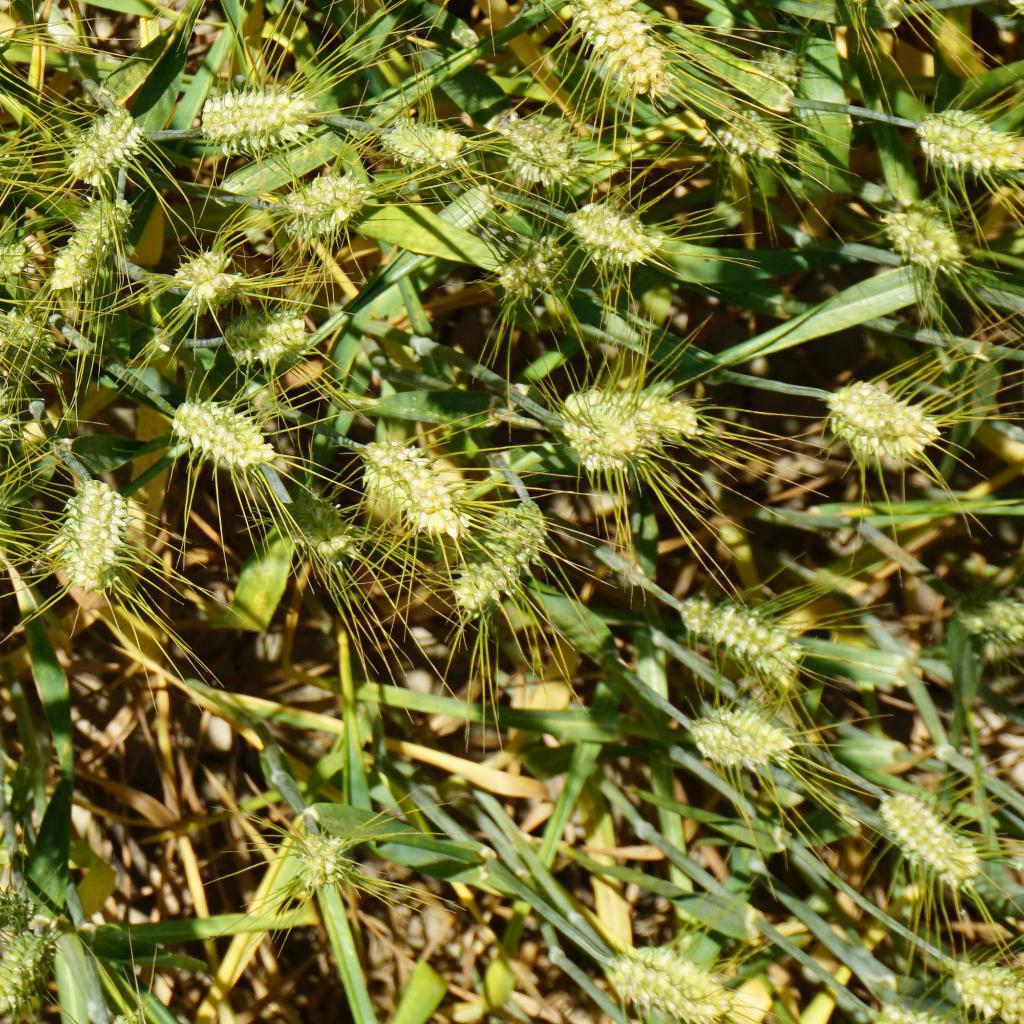0-0: (431, 490, 551, 616), (661, 592, 801, 679), (366, 437, 472, 537), (51, 470, 132, 600), (874, 787, 980, 882), (687, 689, 801, 774), (830, 381, 941, 466), (612, 943, 723, 1024), (574, 0, 667, 94), (549, 372, 640, 466), (167, 384, 275, 462), (39, 197, 130, 289), (612, 370, 709, 456), (190, 84, 318, 149), (903, 106, 1016, 175), (58, 108, 157, 183), (490, 116, 581, 193), (218, 293, 312, 367), (878, 202, 970, 275), (279, 155, 358, 238), (275, 819, 358, 896), (563, 200, 653, 271), (362, 114, 468, 171), (0, 902, 53, 1016), (945, 577, 1024, 649), (484, 222, 565, 291), (0, 305, 73, 381), (175, 246, 256, 313), (949, 951, 1024, 1018), (710, 98, 777, 169), (0, 872, 45, 933), (0, 229, 45, 288), (0, 376, 23, 449), (0, 478, 17, 555)
